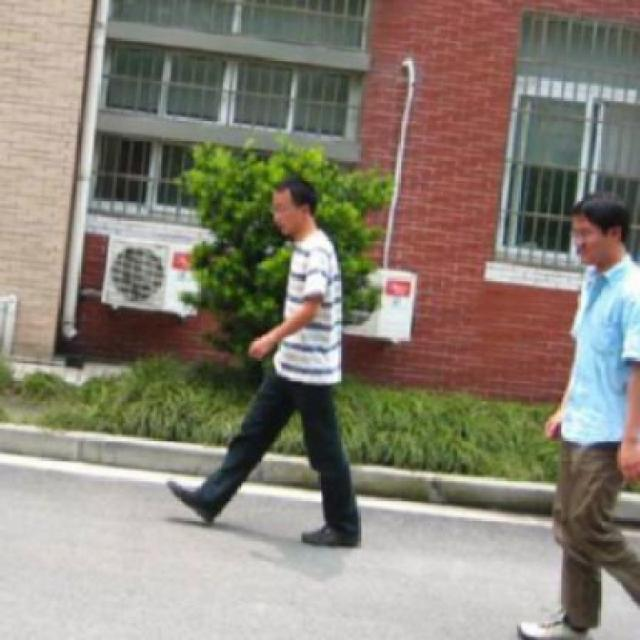obstacle: (161, 168, 364, 549), (514, 186, 638, 639)
